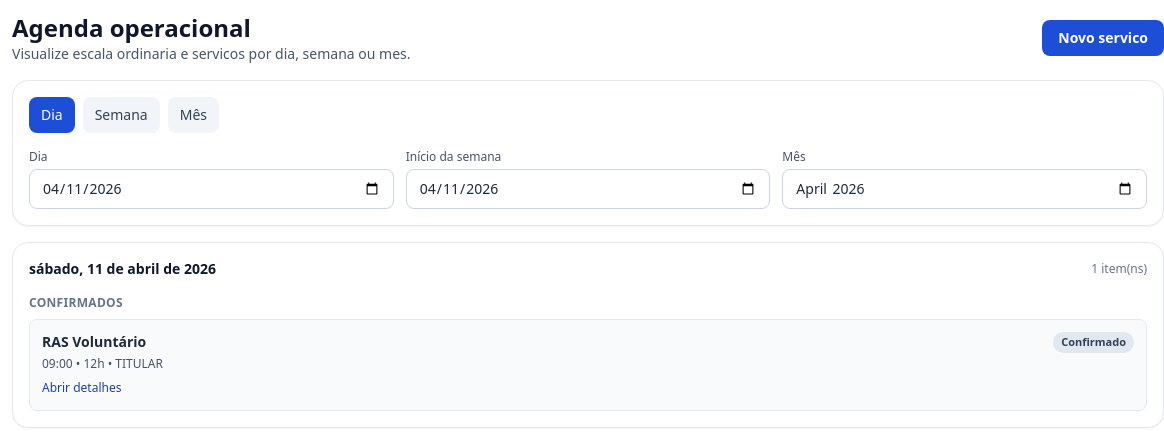
AgendaPage › renderiza agenda semanal ao trocar modo
The width and height of the screenshot is (1164, 445).
Click the button "Semana" at {"x": 121, "y": 115}, box left=83, top=97, right=160, bottom=133
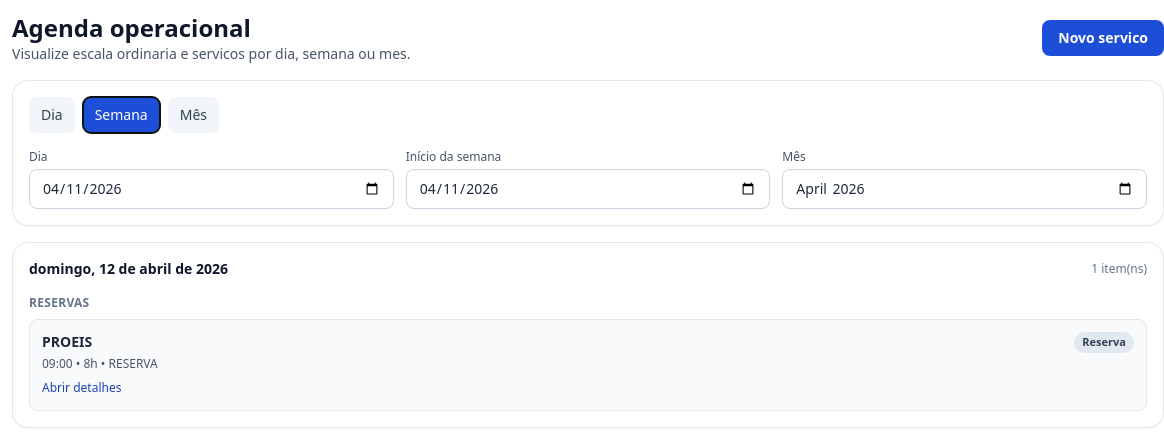
expect the text "PROEIS" is shown: met, box left=42, top=332, right=92, bottom=351
